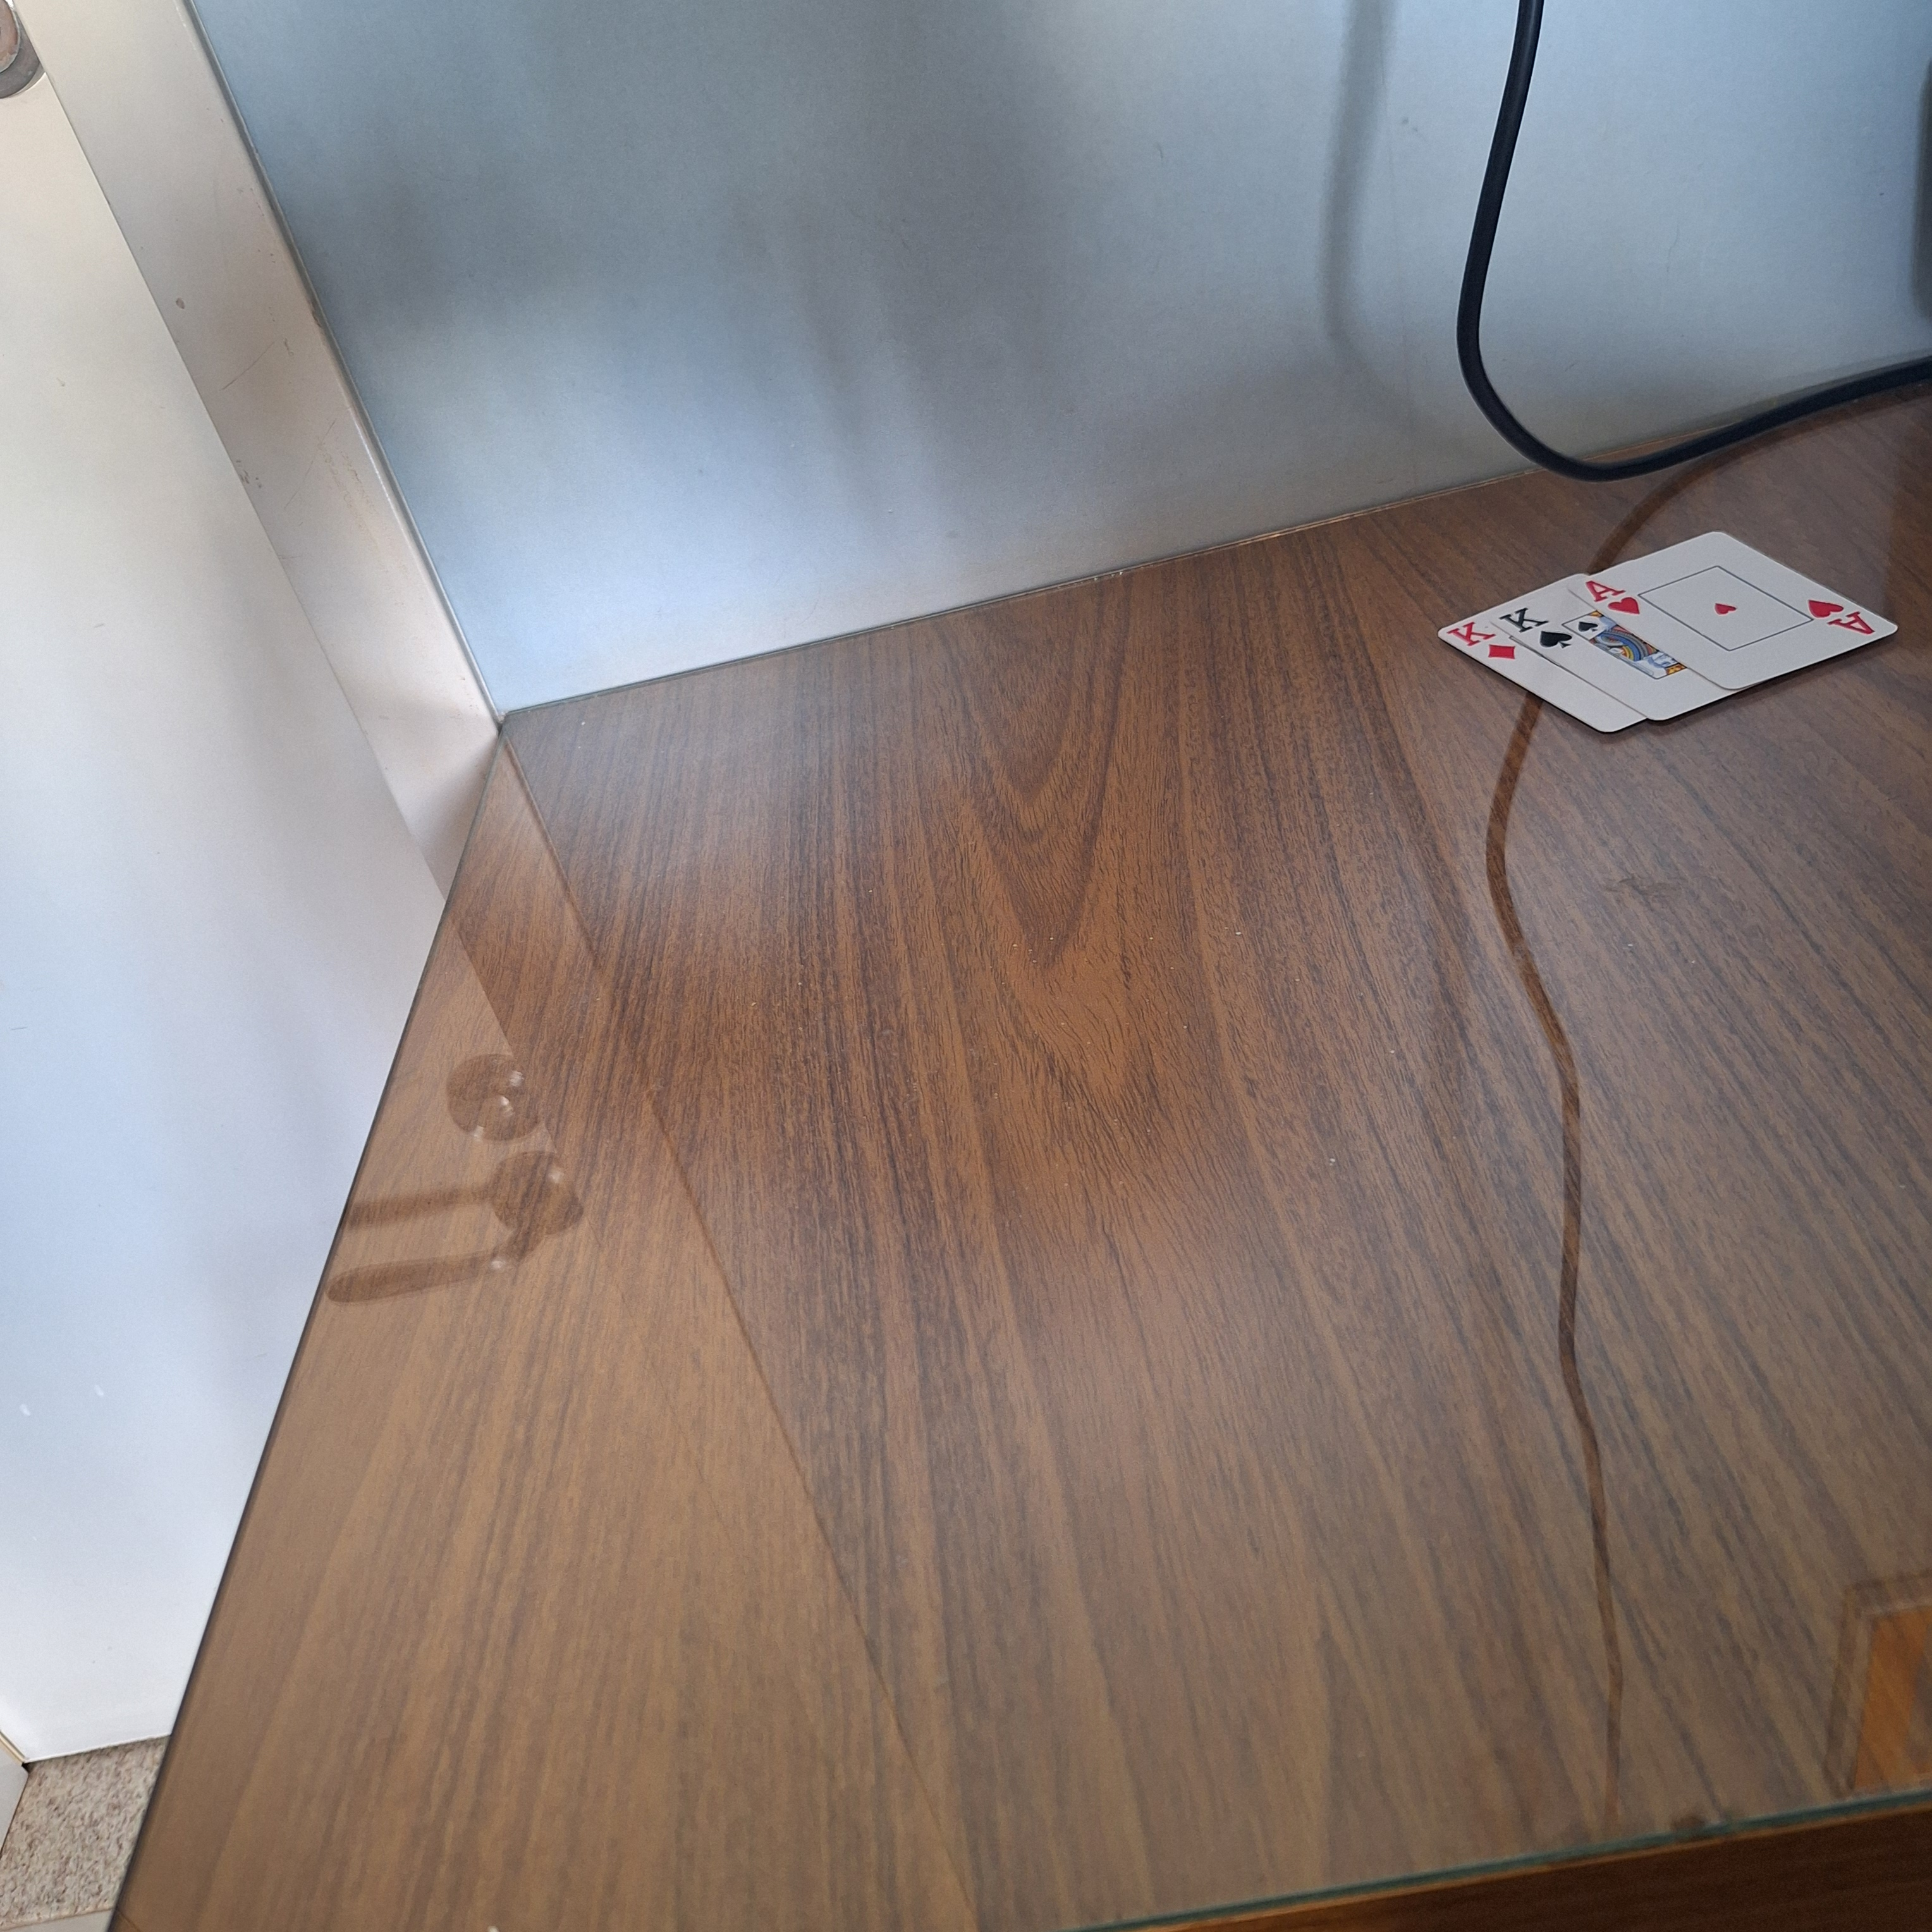AC: (1796, 593, 1886, 646), (1580, 573, 1651, 619)
KE: (1497, 602, 1576, 651)
KO: (1445, 617, 1516, 662)
